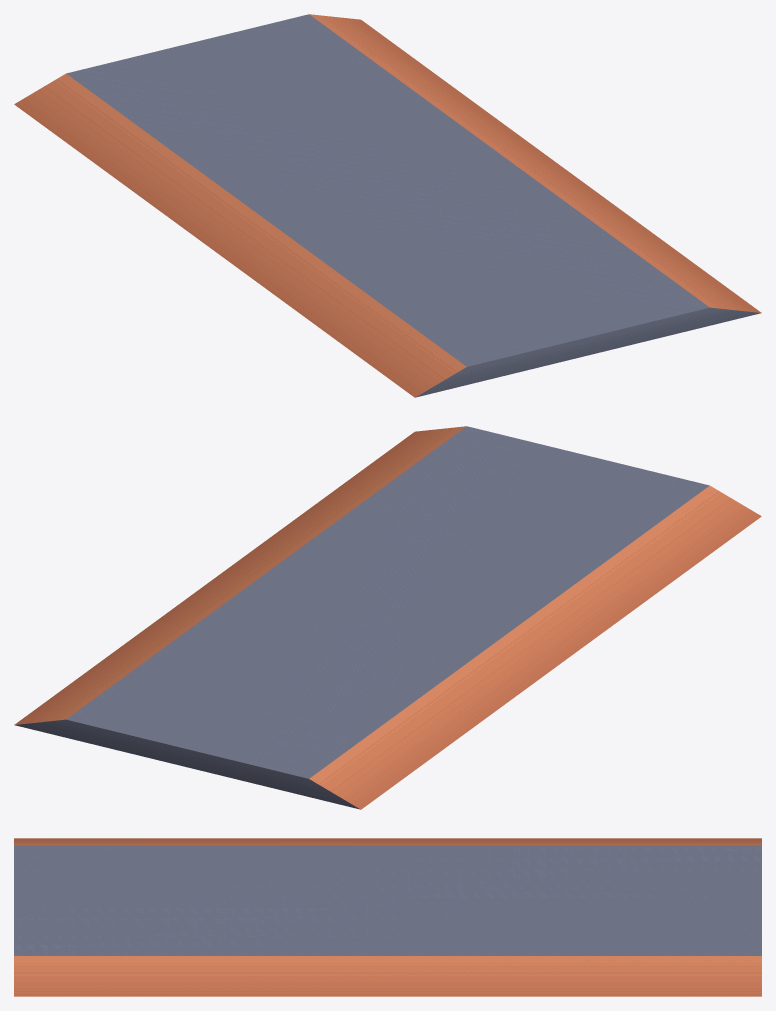
The model's file is path-long.glb.
3 views of the same model, one above another, from view 1: azimuth 30°, elevation 25°; view 2: azimuth 150°, elevation 25°; view 3: azimuth 270°, elevation 25° (orthographic). The views are drawn at different scales.
Visible parts, largest first — view 1: path-long; view 2: path-long; view 3: path-long.
Boxes of the visible parts, box(x1,y1,x2,y2) form: path-long: box(14, 14, 761, 397); path-long: box(14, 426, 761, 809); path-long: box(14, 838, 761, 996).
Size of the model in its own units: 0.2 by 0.01 by 0.4.
1 material, 1 textured.
